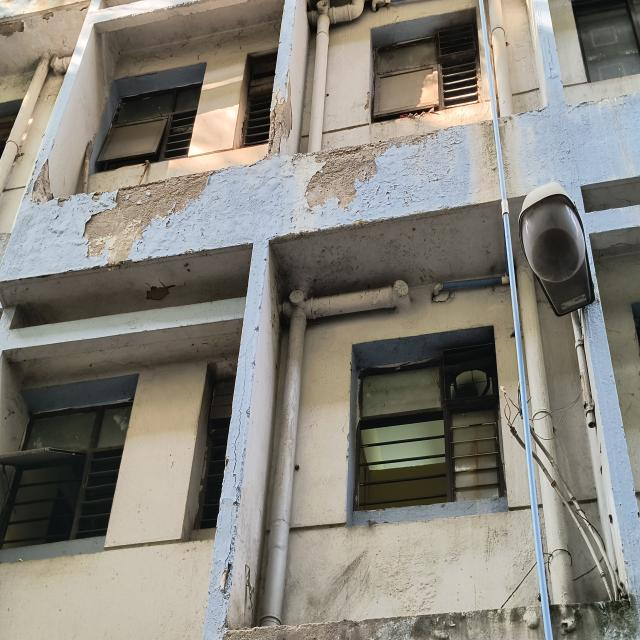peeling: (84, 172, 214, 261), (305, 142, 390, 210), (265, 98, 292, 158), (275, 103, 283, 154)
